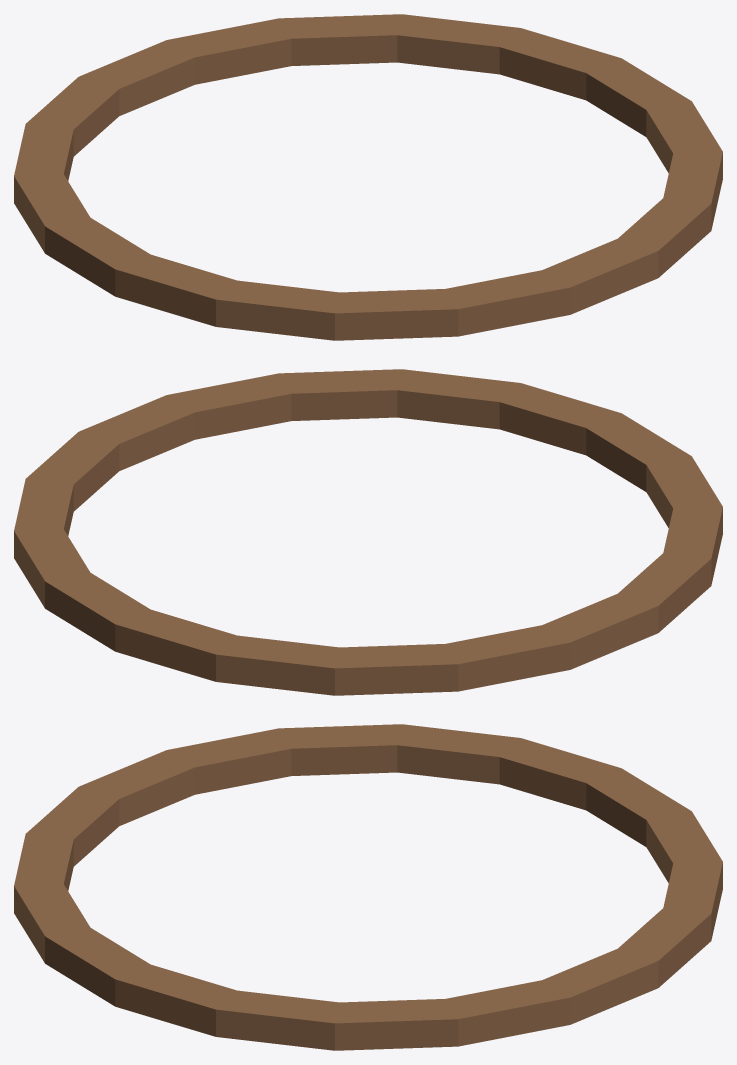
Rendered from Obj_outboat_z.FBX.
3 views of the same model, one above another, from view 1: azimuth 30°, elevation 25°; view 2: azimuth 150°, elevation 25°; view 3: azimuth 270°, elevation 25° (orthographic).
Parts seen in each view (by area): view 1: Obj_Outboat; view 2: Obj_Outboat; view 3: Obj_Outboat.
Part boxes in pixels (x1,y1,x2,y2): Obj_Outboat: [14, 14, 722, 340]; Obj_Outboat: [14, 369, 722, 695]; Obj_Outboat: [14, 724, 722, 1050].
Bounding box in the file's own units: 68.27 × 2.91 × 68.35.
